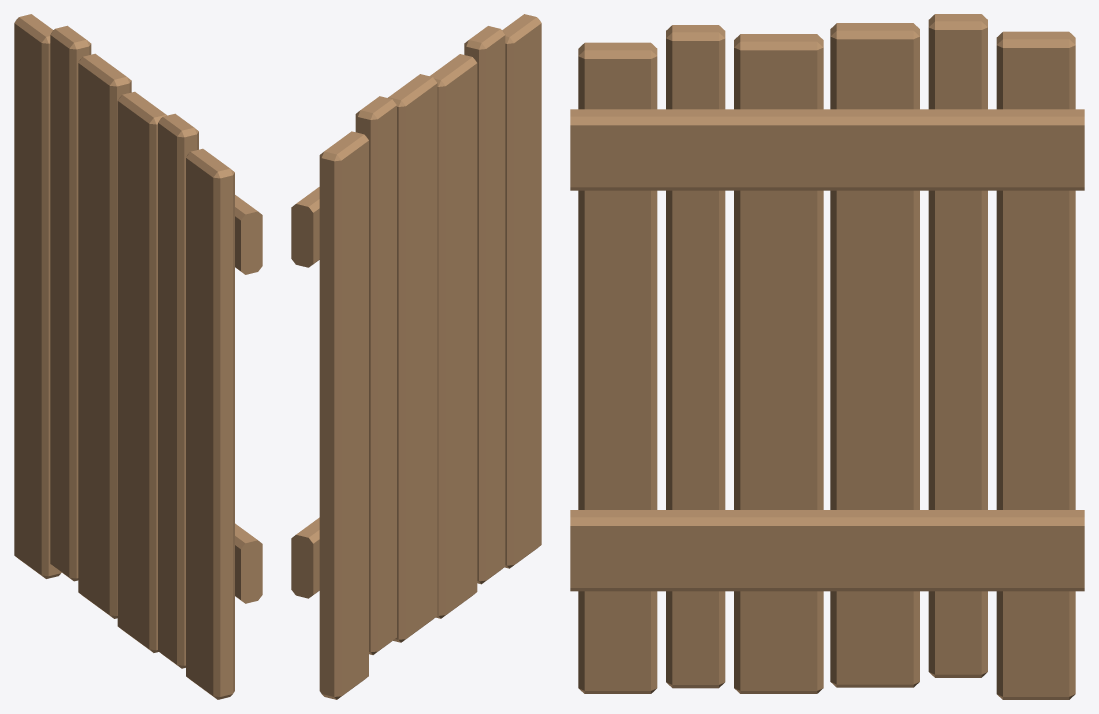
Rendered from Fence B-col.glb.
3 views of the same model, side by side, from view 1: azimuth 30°, elevation 25°; view 2: azimuth 150°, elevation 25°; view 3: azimuth 270°, elevation 25° (orthographic). The views are drawn at different scales.
Visible parts, largest first — view 1: Fence B-col; view 2: Fence B-col; view 3: Fence B-col.
Part boxes in pixels (left/top/right/bottom): Fence B-col: left=14, top=14, right=262, bottom=699; Fence B-col: left=291, top=14, right=541, bottom=699; Fence B-col: left=570, top=14, right=1084, bottom=699.
Size of the model in its own units: 0.1794 by 2.18 by 1.5.
